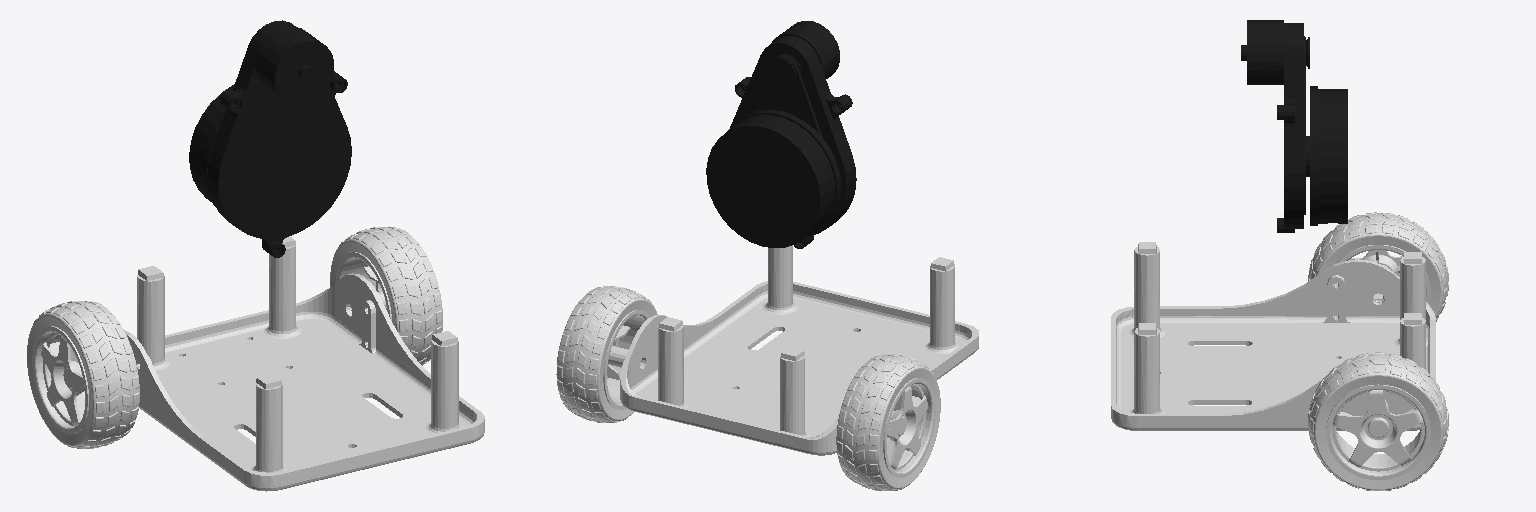
robot.urdf — rover.SLDASM:
<?xml version="1.0" encoding="utf-8"?>
<!-- This URDF was automatically created by SolidWorks to URDF Exporter! Originally created by Stephen Brawner (brawner@gmail.com) 
     Commit Version: 1.6.0-4-g7f85cfe  Build Version: 1.6.7995.38578
     For more information, please see http://wiki.ros.org/sw_urdf_exporter -->
<robot
  name="rover.SLDASM">
  <link
    name="base_link">
    <inertial>
      <origin
        xyz="1.26521364652321E-06 0.00942371472287174 -0.00429329505757229"
        rpy="0 0 0" />
      <mass
        value="0.0897926846506967" />
      <inertia
        ixx="0.000264410079389029"
        ixy="1.95294561555836E-10"
        ixz="3.57822186008731E-09"
        iyy="0.000409718176562311"
        iyz="3.56343349778375E-06"
        izz="0.000174365094518982" />
    </inertial>
    <visual>
      <origin
        xyz="0 0 0"
        rpy="0 0 0" />
      <geometry>
        <mesh
          filename="package://robot_description/meshes/base_link.STL" />
      </geometry>
      <material
        name="">
        <color
          rgba="0.894117647058823 0.894117647058823 0.894117647058823 1" />
      </material>
    </visual>
    <collision>
      <origin
        xyz="0 0 0"
        rpy="0 0 0" />
      <geometry>
        <mesh
          filename="package://robot_description/meshes/base_link.STL" />
      </geometry>
    </collision>
  </link>
  <link
    name="right_wheel">
    <inertial>
      <origin
        xyz="2.63946252977362E-05 -1.31927435295665E-09 0.0181270123819043"
        rpy="0 0 0" />
      <mass
        value="0.166945648008953" />
      <inertia
        ixx="6.7296413416593E-05"
        ixy="5.95216284546374E-12"
        ixz="3.19966067830842E-12"
        iyy="6.72926792753066E-05"
        iyz="2.24049881863597E-13"
        izz="0.000113206411587758" />
    </inertial>
    <visual>
      <origin
        xyz="0 0 0"
        rpy="0 0 0" />
      <geometry>
        <mesh
          filename="package://robot_description/meshes/right_wheel.STL" />
      </geometry>
      <material
        name="">
        <color
          rgba="0.894117647058823 0.894117647058823 0.894117647058823 1" />
      </material>
    </visual>
    <collision>
      <origin
        xyz="0 0 0"
        rpy="0 0 0" />
      <geometry>
        <mesh
          filename="package://robot_description/meshes/right_wheel.STL" />
      </geometry>
    </collision>
  </link>
  <joint
    name="right_wheel_joint"
    type="continuous">
    <origin
      xyz="0.0635 0.051435 0.01397"
      rpy="1.5708 -0.045845 1.5708" />
    <parent
      link="base_link" />
    <child
      link="right_wheel" />
    <axis
      xyz="0 0 1" />
  </joint>
  <link
    name="left_wheel">
    <inertial>
      <origin
        xyz="-1.85861050924774E-08 -1.31927031798984E-09 0.0181270123819039"
        rpy="0 0 0" />
      <mass
        value="0.16694564800892" />
      <inertia
        ixx="6.72964134165765E-05"
        ixy="5.95216525781358E-12"
        ixz="3.19966028882068E-12"
        iyy="6.72926792752998E-05"
        iyz="2.24048015427613E-13"
        izz="0.000113206411587735" />
    </inertial>
    <visual>
      <origin
        xyz="0 0 0"
        rpy="0 0 0" />
      <geometry>
        <mesh
          filename="package://robot_description/meshes/left_wheel.STL" />
      </geometry>
      <material
        name="">
        <color
          rgba="0.894117647058823 0.894117647058823 0.894117647058823 1" />
      </material>
    </visual>
    <collision>
      <origin
        xyz="0 0 0"
        rpy="0 0 0" />
      <geometry>
        <mesh
          filename="package://robot_description/meshes/left_wheel.STL" />
      </geometry>
    </collision>
  </link>
  <joint
    name="left_wheel_joint"
    type="continuous">
    <origin
      xyz="-0.0635 0.051435 0.01397"
      rpy="1.5708 0.045845 -1.5708" />
    <parent
      link="base_link" />
    <child
      link="left_wheel" />
    <axis
      xyz="0 0 1" />
  </joint>
  <link
    name="lidar">
    <inertial>
      <origin
        xyz="0.00023981563356133 0.011368450071895 0.0124301051678708"
        rpy="0 0 0" />
      <mass
        value="0.11668205406855" />
      <inertia
        ixx="0.000100209188218837"
        ixy="-4.15170038675101E-07"
        ixz="7.47379039409132E-07"
        iyy="0.000112425267410857"
        iyz="1.92108033402297E-05"
        izz="4.69528158829323E-05" />
    </inertial>
    <visual>
      <origin
        xyz="0 0 0"
        rpy="0 0 0" />
      <geometry>
        <mesh
          filename="package://robot_description/meshes/lidar.STL" />
      </geometry>
      <material
        name="">
        <color
          rgba="0.149019607843137 0.149019607843137 0.149019607843137 1" />
      </material>
    </visual>
    <collision>
      <origin
        xyz="0 0 0"
        rpy="0 0 0" />
      <geometry>
        <mesh
          filename="package://robot_description/meshes/lidar.STL" />
      </geometry>
    </collision>
  </link>
  <joint
    name="lidar_joint"
    type="fixed">
    <origin
      xyz="0 0.00508 0.1196"
      rpy="0 0 0" />
    <parent
      link="base_link" />
    <child
      link="lidar" />
    <axis
      xyz="0 0 0" />
  </joint>
</robot>

--- Facts derived from the render (not from the file) ---
3 views of the same robot in one strip: view 1: azimuth 30°, elevation 25°; view 2: azimuth 150°, elevation 25°; view 3: azimuth 270°, elevation 25° (orthographic).
Robot: rover.SLDASM — 4 links, 3 joints (2 continuous, 1 fixed); root link base_link; default pose: every joint at zero.
Visible links, largest first — view 1: base_link, lidar, left_wheel, right_wheel; view 2: base_link, lidar, left_wheel, right_wheel; view 3: base_link, right_wheel, lidar, left_wheel.
Boxes of the visible links, x1,y1,x2,y2 form: base_link: (124, 236, 484, 491); lidar: (189, 20, 351, 257); left_wheel: (27, 301, 139, 448); right_wheel: (330, 227, 442, 365); base_link: (620, 245, 978, 455); lidar: (706, 21, 856, 248); left_wheel: (836, 354, 940, 490); right_wheel: (556, 286, 657, 422); base_link: (1111, 242, 1435, 430); right_wheel: (1308, 352, 1448, 490); lidar: (1241, 20, 1347, 232); left_wheel: (1308, 212, 1448, 321).
Bounding box of the posed robot: 0.187 × 0.1653 × 0.2118 m (x, y, z).
4 mesh visuals loaded from 4 distinct referenced files (4 binary STL).
